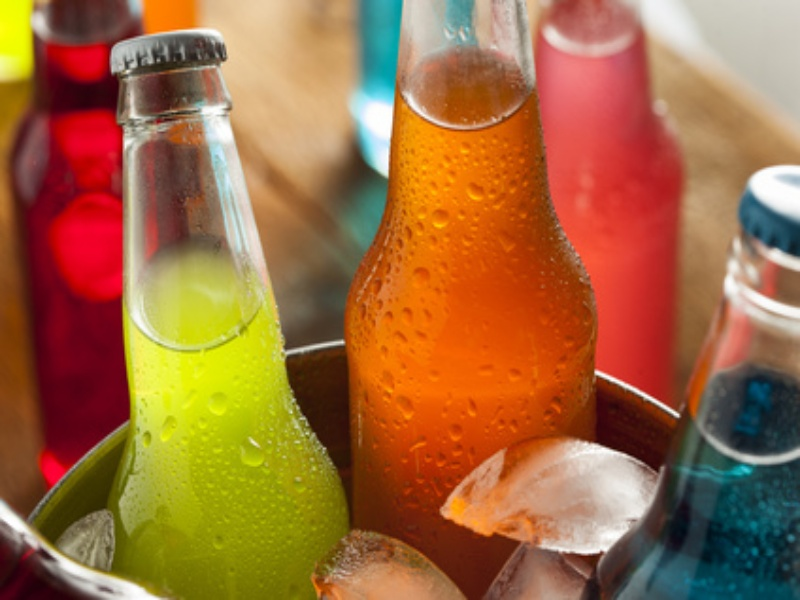Glass bottle: (66, 30, 376, 591), (331, 1, 631, 539), (607, 132, 800, 591)
